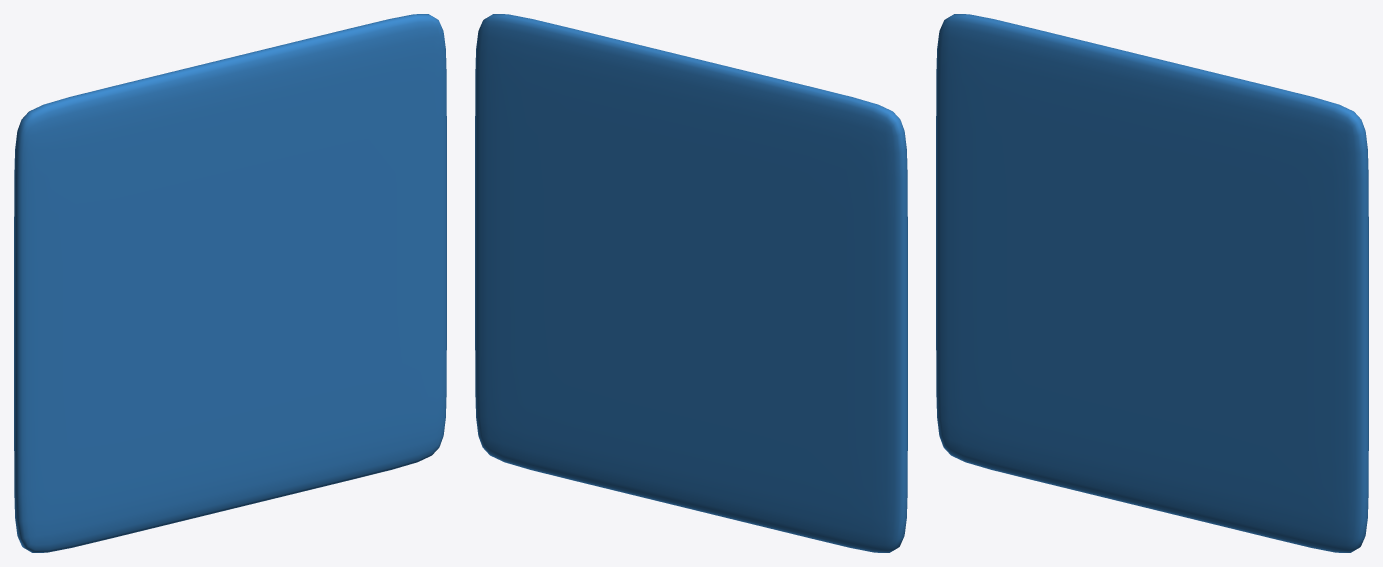
File: rug.obj
3 views of the same model, side by side, from view 1: azimuth 30°, elevation 25°; view 2: azimuth 150°, elevation 25°; view 3: azimuth 330°, elevation 25° (orthographic).
Visible parts, largest first — view 1: rug; view 2: rug; view 3: rug.
Boxes of the visible parts, x1,y1,x2,y2 form: rug: (14,14,446,552); rug: (475,14,907,552); rug: (936,14,1368,552).
Bounding box in the file's own units: 1.7 × 1.7 × 0.07.
